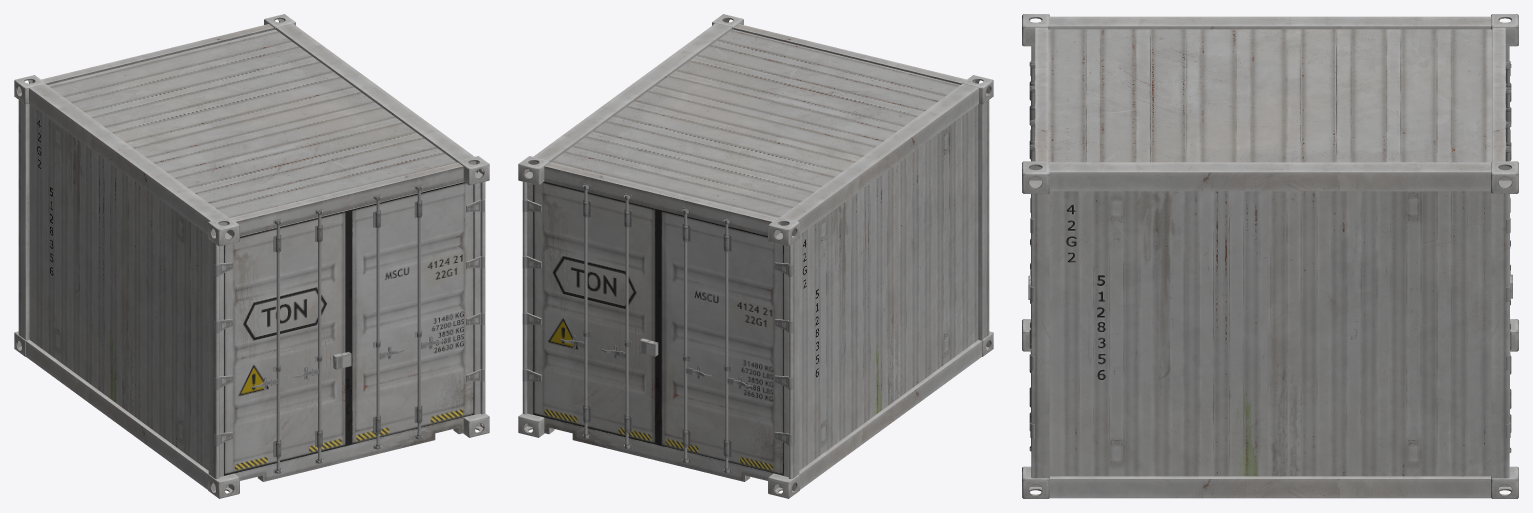
The model's file is MB_Container_02.fbx.
3 views of the same model, side by side, from view 1: azimuth 30°, elevation 25°; view 2: azimuth 150°, elevation 25°; view 3: azimuth 270°, elevation 25° (orthographic). The views are drawn at different scales.
Parts seen in each view (by area): view 1: MB_Container_02_LOD0; view 2: MB_Container_02_LOD0, MB_Container_Door_02_LOD0; view 3: MB_Container_02_LOD0.
Boxes of the visible parts, x1,y1,x2,y2 form: MB_Container_02_LOD0: (14,14,489,498); MB_Container_02_LOD0: (518,14,993,498); MB_Container_Door_02_LOD0: (658,209,793,475); MB_Container_02_LOD0: (1022,14,1518,498).
Size of what is drawn, in the model's own units: 333 by 316 by 437.
